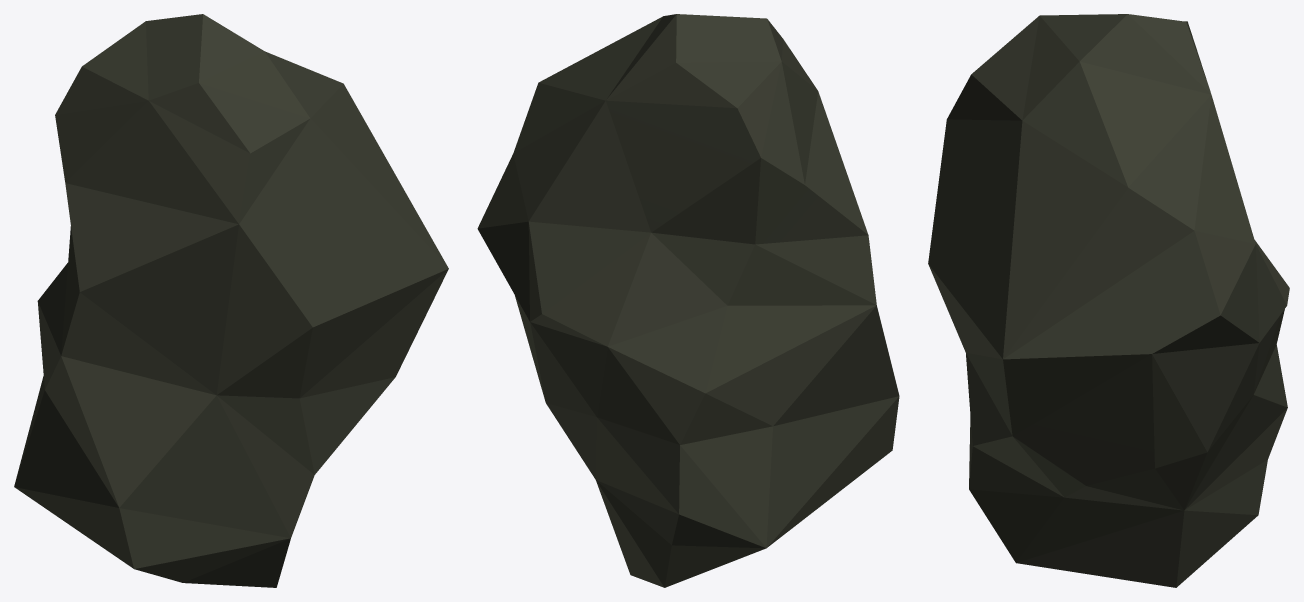
File: Rock3.glb
The picture shows the model from 3 angles, left to right: view 1: azimuth 30°, elevation 25°; view 2: azimuth 150°, elevation 25°; view 3: azimuth 270°, elevation 25°; orthographic projection. The views are drawn at different scales.
Visible parts, largest first — view 1: Rock3; view 2: Rock3; view 3: Rock3.
Part boxes in pixels (box(x1,y1,x2,y2)): Rock3: box(14, 14, 448, 587); Rock3: box(477, 14, 899, 587); Rock3: box(928, 14, 1289, 587).
Size of the model in its own units: 0.7946 by 1.19 by 0.6946.
1 material, 1 textured.
